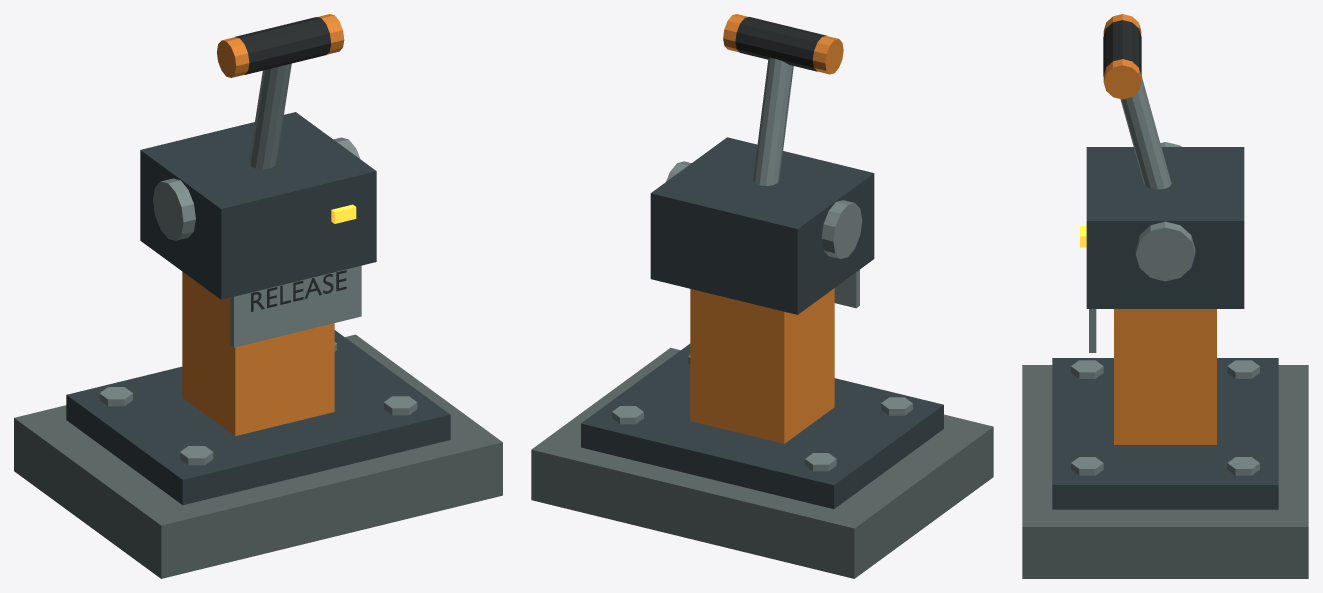
Rendered from w4b-release-stand.glb.
3 renders of one model, left to right at view 1: azimuth 30°, elevation 25°; view 2: azimuth 150°, elevation 25°; view 3: azimuth 270°, elevation 25°, orthographic. The views are drawn at different scales.
Visible parts, largest first — view 1: Concrete seat, Upper machine housing, Splined base, Lever column, Angled instruction face, Knurled grip, Pull arm, Transverse pivot, Grip collar, RELEASE; view 2: Concrete seat, Upper machine housing, Splined base, Lever column, Pull arm, Knurled grip, Transverse pivot, Grip collar, Angled instruction face; view 3: Concrete seat, Splined base, Upper machine housing, Lever column, Transverse pivot, Pull arm, Knurled grip, Grip collar.001, Recess hex bolt, Recess hex bolt.001, Recess hex bolt.002, Recess hex bolt.003.
Boxes of the visible parts, x1,y1,x2,y2 form: Concrete seat: (14,334,502,578); Upper machine housing: (140,112,376,299); Splined base: (66,330,450,504); Lever column: (182,271,334,436); Angled instruction face: (230,265,361,347); Knurled grip: (235,17,331,74); Pull arm: (248,63,291,169); Transverse pivot: (153,137,360,240); Grip collar: (217,37,249,77); RELEASE: (251,270,346,311); Concrete seat: (531,347,993,578); Upper machine housing: (650,137,874,314); Splined base: (581,344,943,508); Lever column: (690,288,834,443); Pull arm: (753,58,793,185); Knurled grip: (735,17,826,71); Transverse pivot: (666,161,862,258); Grip collar: (812,36,843,74); Angled instruction face: (834,269,859,308); Concrete seat: (1022,365,1308,578); Splined base: (1052,358,1278,509); Upper machine housing: (1086,147,1244,308); Lever column: (1114,309,1216,444); Transverse pivot: (1135,142,1195,281); Pull arm: (1120,76,1171,189); Knurled grip: (1103,20,1141,76); Grip collar.001: (1103,59,1141,99); Recess hex bolt: (1071,360,1103,378); Recess hex bolt.001: (1227,360,1259,378); Recess hex bolt.002: (1071,457,1103,475); Recess hex bolt.003: (1227,457,1259,475).
Size of the model in its own units: 1.34 by 1.77 by 1.
